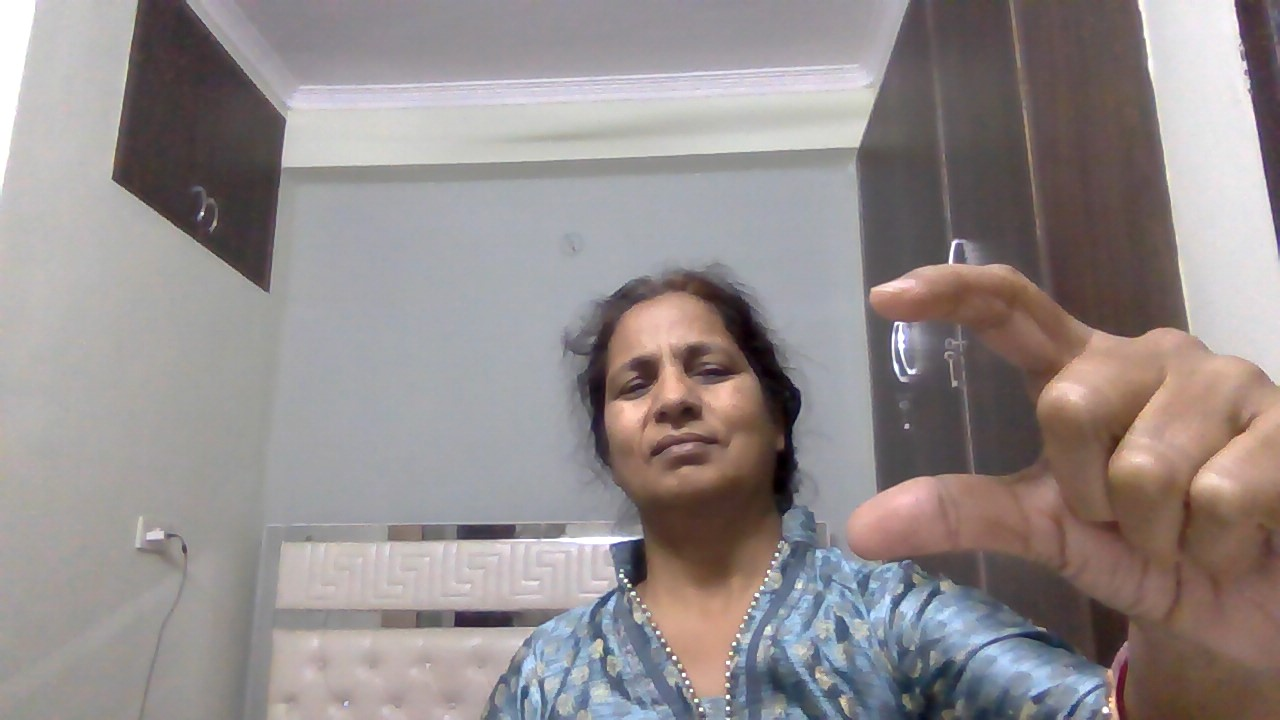Paste: (840, 253, 1280, 679)
